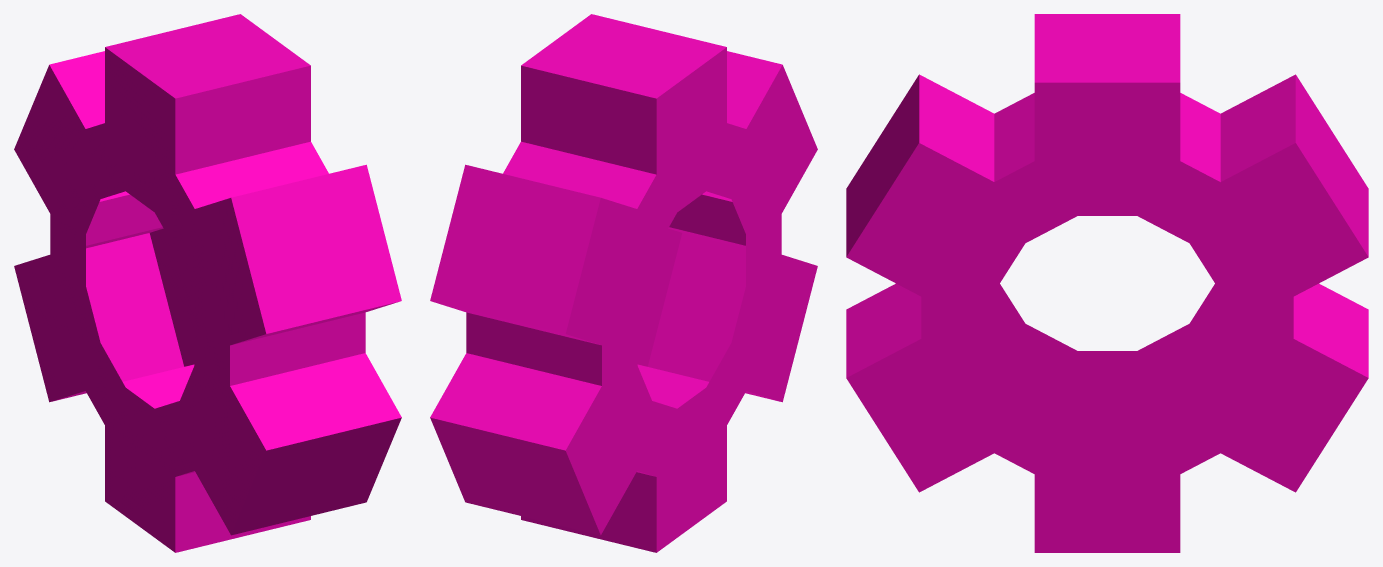
Rendered from cryptex_8.fbx.
3 renders of one model, left to right at view 1: azimuth 30°, elevation 25°; view 2: azimuth 150°, elevation 25°; view 3: azimuth 270°, elevation 25°, orthographic. The views are drawn at different scales.
Parts seen in each view (by area): view 1: Object021; view 2: Object021; view 3: Object021.
Boxes of the visible parts, x1,y1,x2,y2 form: Object021: (14,14,401,552); Object021: (430,14,817,552); Object021: (846,14,1368,552).
Bounding box in the file's own units: 0.0219 × 0.0702 × 0.0707.
